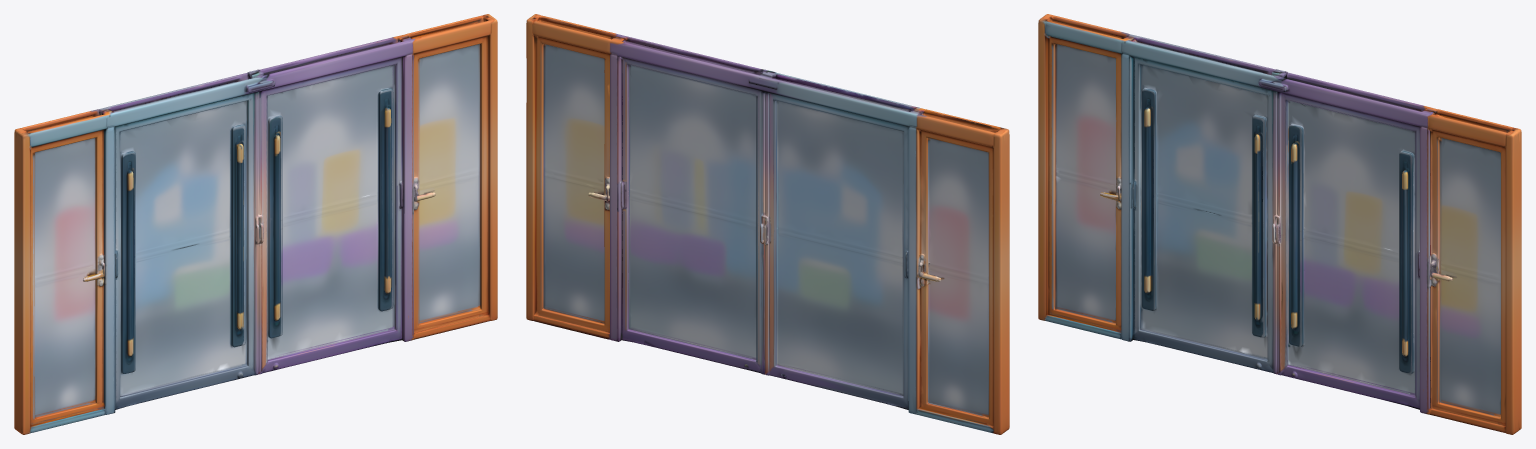
Rendered from SM_B_Door_Main.glb.
3 renders of one model, left to right at view 1: azimuth 30°, elevation 25°; view 2: azimuth 150°, elevation 25°; view 3: azimuth 330°, elevation 25°, orthographic.
Visible parts, largest first — view 1: SM_B_Door_Main; view 2: SM_B_Door_Main; view 3: SM_B_Door_Main.
Part boxes in pixels (x1,y1,x2,y2): SM_B_Door_Main: (14,14,497,434); SM_B_Door_Main: (526,14,1009,434); SM_B_Door_Main: (1038,14,1521,434).
Bounding box in the file's own units: 5.43 × 3.3 × 0.2411.
Materials: 1 (1 with a texture image).
